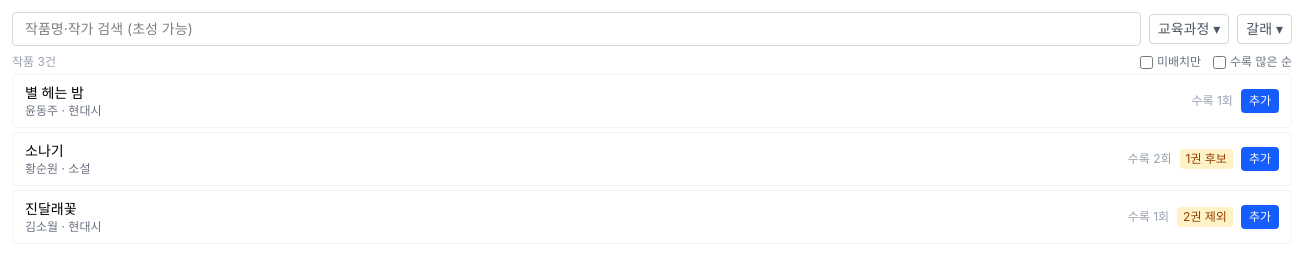
Scenario: '미배치만'을 켜면 제외 외 상태로 권에 들어간 작품을 숨긴다
The width and height of the screenshot is (1304, 261).
Check: the number of buttons "추가" is 3, box [1241,89,1279,113]; [1241,147,1279,171]; [1241,205,1279,229]
Click the checkbox labelled "미배치만" at (1146, 62), box [1140,56,1153,68]
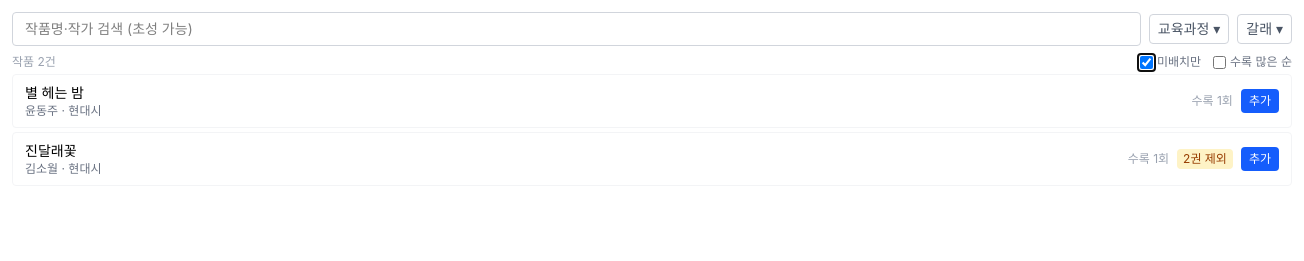
Check: the text "진달래꽃" is shown, box [25,142,76,159]
Check: the number of buttons "추가" is 2, box [1241,89,1279,113]; [1241,147,1279,171]
Check: the text "소나기" is gone
